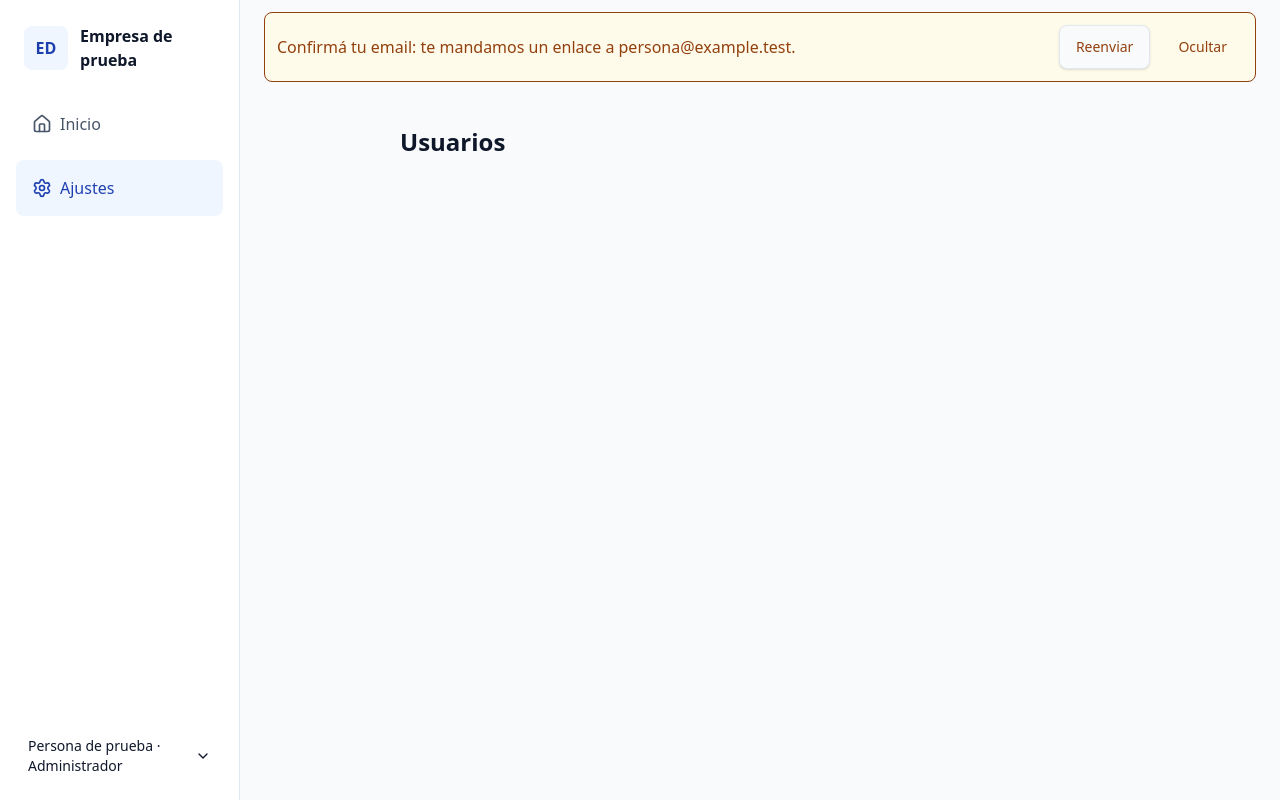
Test case: EmailVerificationBanner › keeps the notice and gives neutral text if the follow-up session read fails
Expected: the text "Confirmá tu email:" is shown, 277,36 -> 618,58
What coordinates should you click on to do the following:
click the button "Reenviar"
I would click on:
 (1105, 47)
Its box is 1059,25 -> 1150,69.
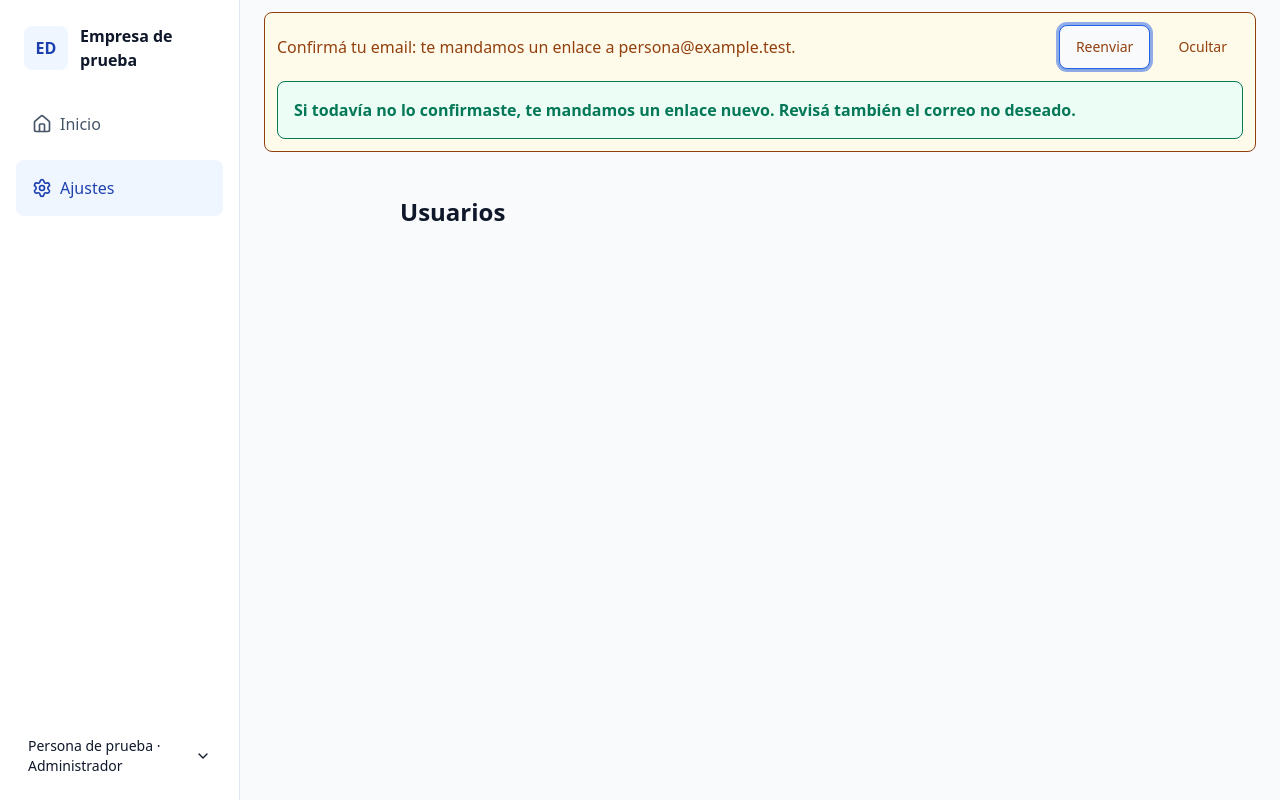
Expected: the text "Confirmá tu email:" is shown, 277,36 -> 618,58
Now the text "Si todavía no lo confirmaste, te mandamos un enlace nuevo" is shown, box 294,99 -> 1076,121
